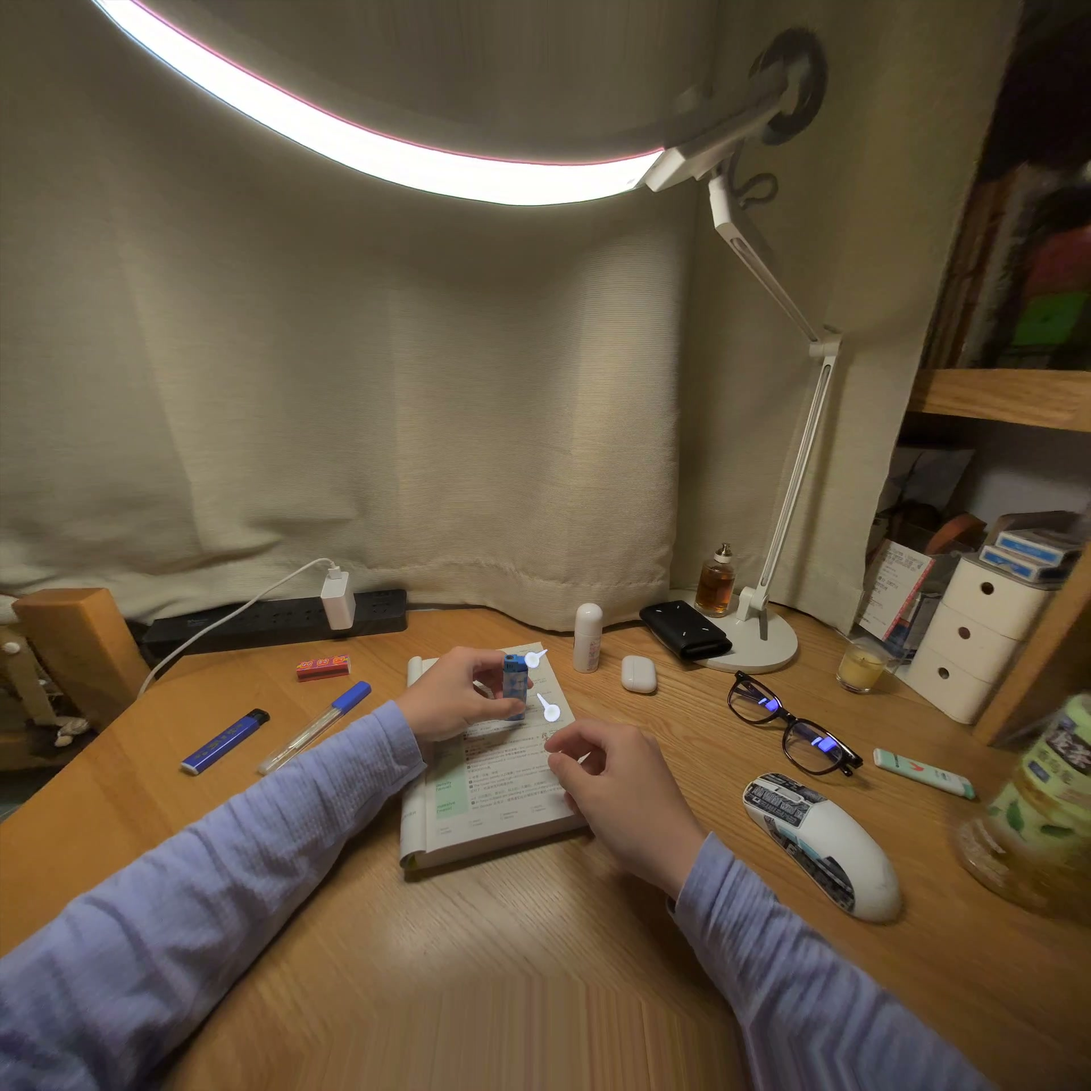lighter: (502, 655, 528, 704)
